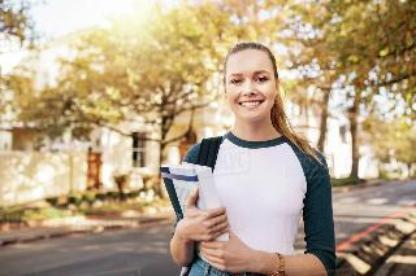person: (157, 36, 342, 276)
